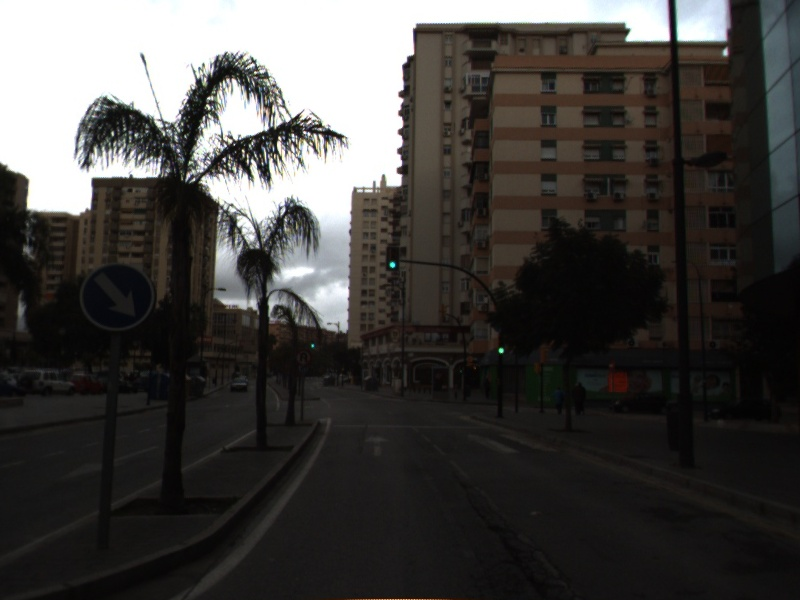STRAIGHT: (362, 433, 393, 459)
